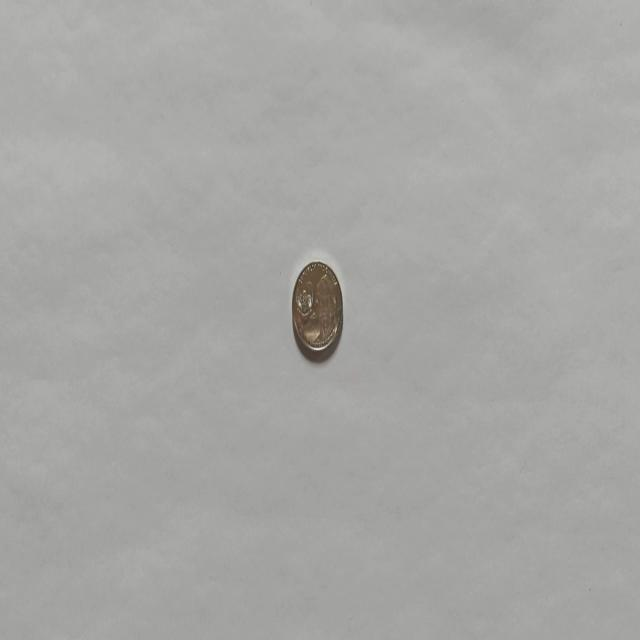dua ratus rupiah: (290, 258, 344, 354)
